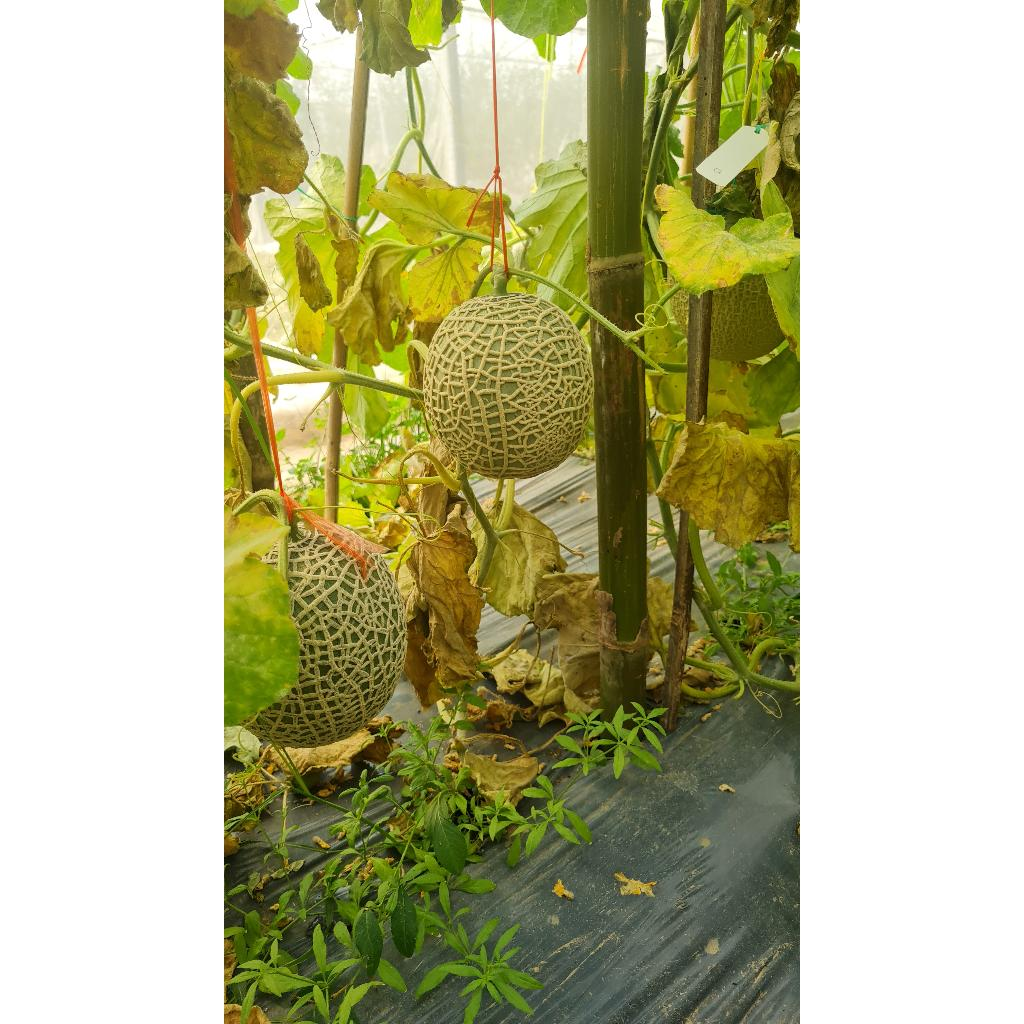melon: (250, 530, 406, 748), (424, 292, 594, 478)
